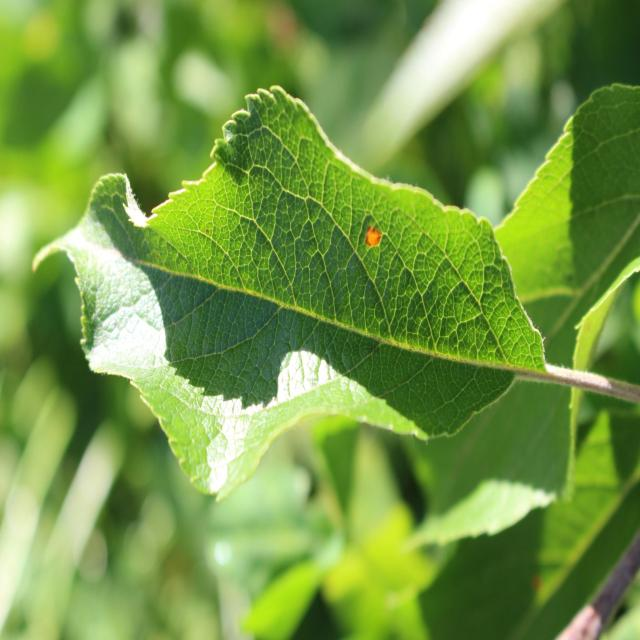Rust: (364, 218, 384, 256)
